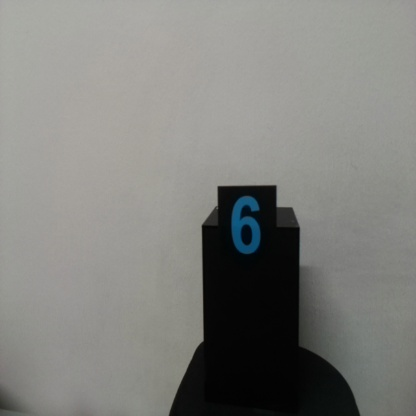id_6: (218, 188, 277, 283)
